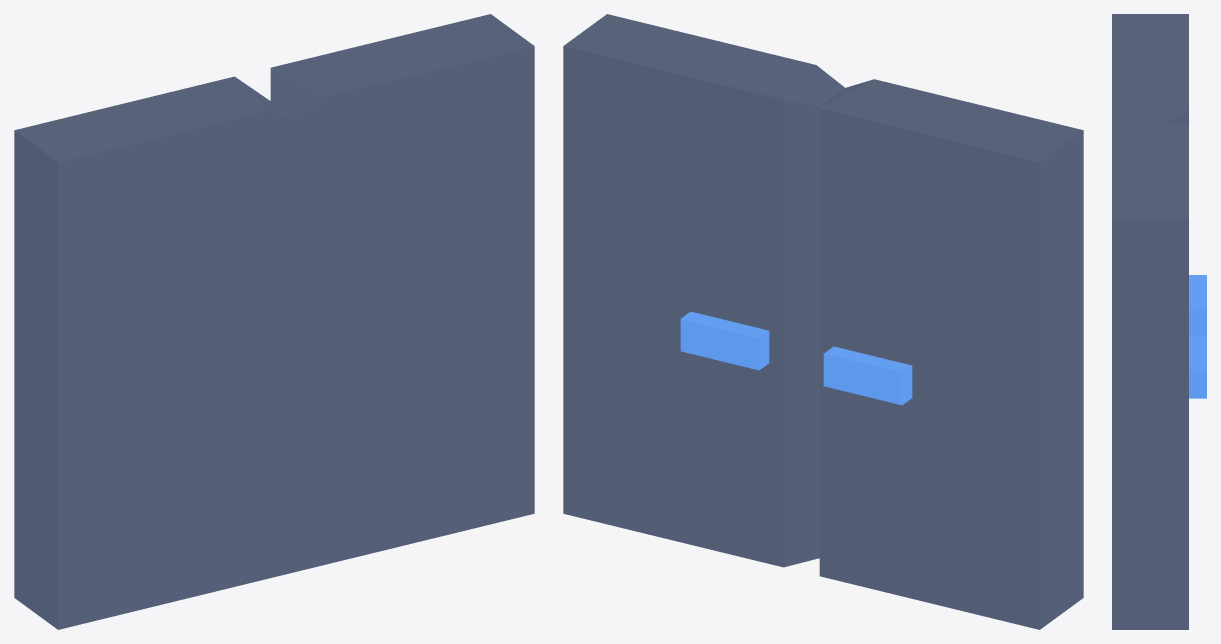
The model's file is bunker_doors.glb.
3 views of the same model, side by side, from view 1: azimuth 30°, elevation 25°; view 2: azimuth 150°, elevation 25°; view 3: azimuth 270°, elevation 25° (orthographic). The views are drawn at different scales.
Parts seen in each view (by area): view 1: Cube.001; view 2: Cube.001, Cube.002; view 3: Cube.001, Cube.002.
Boxes of the visible parts, x1,y1,x2,y2 form: Cube.001: [14, 14, 534, 629]; Cube.001: [563, 14, 1083, 629]; Cube.002: [680, 311, 912, 405]; Cube.001: [1112, 14, 1188, 629]; Cube.002: [1189, 275, 1206, 398].
Bounding box in the file's own units: 3.96 × 3.71 × 0.7767.
